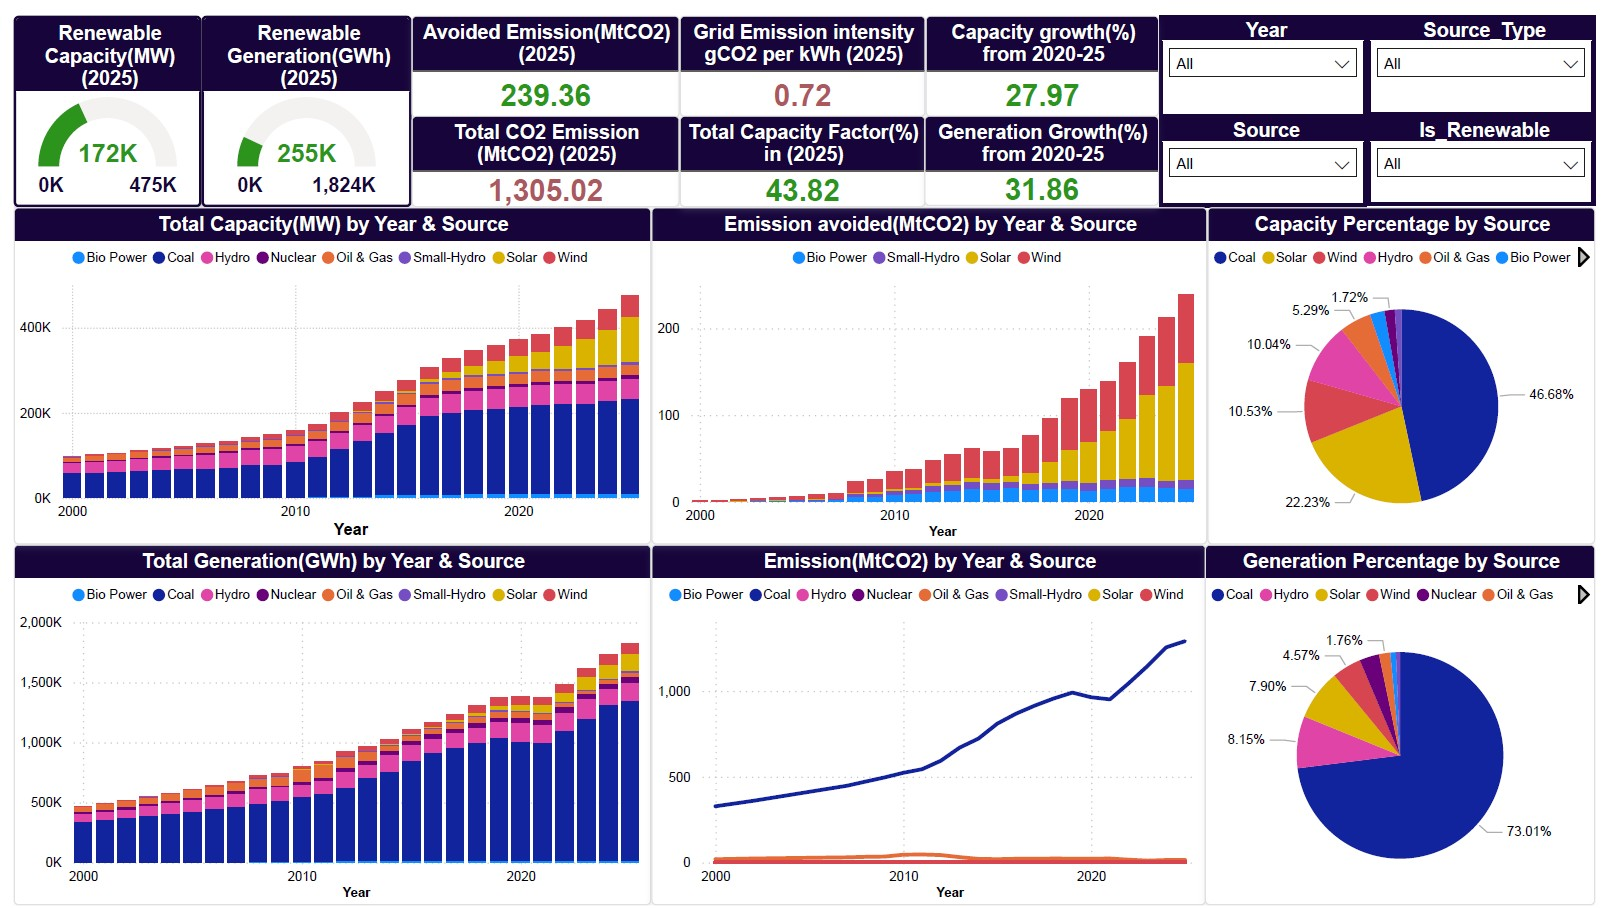

What the dashboard file says about the page in this screenshot:
{"tool":"powerbi","page":{"name":"National Level Energy Summary","canvas":[1280,720],"ordinal":0},"visuals":[{"type":"slicer","title":"Year","fields":{"Values":["_Dim_Year.Year"]},"box":[927,0,168,83],"z":0},{"type":"slicer","title":"Source","fields":{"Values":["_Dim_Source.Source"]},"box":[927,81,168,74],"z":1000},{"type":"slicer","title":"Is_Renewable","fields":{"Values":["_Dim_Source.Is_Renewable"]},"box":[1095,81,185,73],"z":2000},{"type":"slicer","title":"Source_Type","fields":{"Values":["_Dim_Source.Source_Group"]},"box":[1095,0,185,81],"z":3000},{"type":"gauge","title":"Renewable Generation(GWh) (2025)","fields":{"Y":["_Measures.GEN_RE_fixed_GWh"],"MaxValue":["_Measures.GEN_Total_fixed_GWh"]},"box":[152,0,170,155],"z":4000},{"type":"gauge","title":"Renewable Capacity(MW) (2025)","fields":{"MaxValue":["_Measures.CAP_Total_fixed_MW"],"Y":["_Measures.CAP_RE_fixed_MW"]},"box":[0,0,152,155],"z":5000},{"type":"kpi","title":"Avoided Emission(MtCO2) (2025)","fields":{"TrendLine":["_Dim_Year.Year"],"Indicator":["_Measures.EM_Avoided_fixed_MtCO2"]},"box":[321.7,0,217.5,83.3],"z":6000},{"type":"kpi","title":"Total CO2 Emission (MtCO2) (2025)","fields":{"TrendLine":["_Dim_Year.Year"],"Indicator":["_Measures.EM_Total_fixed_MtCO2"]},"box":[322,81,217,74],"z":7000},{"type":"kpi","title":"Grid Emission intensity gCO2 per kWh (2025)","fields":{"TrendLine":["_Dim_Year.Year"],"Indicator":["_Measures.EM_intensity_Total_gCO2_per_kWh_fixed"]},"box":[539,0,199,82],"z":8000},{"type":"columnChart","title":"Total Generation(GWh) by Year & Source","fields":{"Category":["_Dim_Year.Year"],"Series":["_Dim_Source.Source"],"Y":["_Measures.GEN_Total_GWh"]},"box":[0,427.8,515.7,292.5],"z":9000},{"type":"lineChart","title":"Emission(MtCO2) by Year & Source","fields":{"Category":["_Dim_Year.Year"],"Series":["_Dim_Source.Source"],"Y":["_Measures.EM_Total_MtCO2"]},"box":[515.7,427.8,448.9,292.5],"z":11000},{"type":"pieChart","title":"Capacity Percentage by Source","fields":{"Category":["_Dim_Source.Source"],"Y":["_Measures.Cap_%_by_source_pie"]},"box":[966,155,314,273],"z":12000},{"type":"pieChart","title":"Generation Percentage by Source","fields":{"Category":["_Dim_Source.Source"],"Y":["_Measures.Gen_%_by_source_pie"]},"box":[964.4,427.8,315.6,292.2],"z":13000},{"type":"columnChart","title":"Emission avoided(MtCO2) by Year & Source","fields":{"Category":["_Dim_Year.Year"],"Series":["_Dim_Source.Source"],"Y":["_Measures.EM_Avoided_MtCO2"]},"box":[515.7,154.6,450.7,273.2],"z":14000},{"type":"lineStackedColumnComboChart","title":"Total Capacity(MW) by Year & Source","fields":{"Category":["_Dim_Year.Year"],"Series":["_Dim_Source.Source"],"Y":["_Measures.CAP_Total_MW"]},"box":[0,154.6,515.7,273.2],"z":15000},{"type":"kpi","title":"Total Capacity Factor(%)  in (2025)","fields":{"TrendLine":["_Dim_Year.Year"],"Indicator":["_Measures.CF_Total_Fixed_%"]},"box":[539,81,199,74],"z":17000},{"type":"kpi","title":"Capacity growth(%) from 2020-25","fields":{"TrendLine":["_Dim_Year.Year"],"Indicator":["_Measures.CAP_Growth_2020_2025_%"]},"box":[738,0,189,82],"z":18000},{"type":"kpi","title":"Generation Growth(%) from 2020-25","fields":{"TrendLine":["_Dim_Year.Year"],"Indicator":["_Measures.GEN_Growth_2020_2025_%"]},"box":[737,81,190,73],"z":19000}]}

Visuals, with their boxes in screenshot pixels (x1, y1, x2, y2), scaled from the page's 1280x720 canvas onto the 1617x908 screenshot:
"Year" slicer: Rect(1171, 0, 1383, 105)
"Source" slicer: Rect(1171, 102, 1383, 195)
"Is_Renewable" slicer: Rect(1383, 102, 1616, 194)
"Source_Type" slicer: Rect(1383, 0, 1616, 102)
"Renewable Generation(GWh) (2025)" gauge: Rect(192, 0, 407, 195)
"Renewable Capacity(MW) (2025)" gauge: Rect(0, 0, 192, 195)
"Avoided Emission(MtCO2) (2025)" kpi: Rect(406, 0, 681, 105)
"Total CO2 Emission (MtCO2) (2025)" kpi: Rect(407, 102, 681, 195)
"Grid Emission intensity gCO2 per kWh (2025)" kpi: Rect(681, 0, 932, 103)
"Total Generation(GWh) by Year & Source" columnChart: Rect(0, 540, 651, 907)
"Emission(MtCO2) by Year & Source" lineChart: Rect(651, 540, 1219, 907)
"Capacity Percentage by Source" pieChart: Rect(1220, 195, 1616, 540)
"Generation Percentage by Source" pieChart: Rect(1218, 540, 1616, 907)
"Emission avoided(MtCO2) by Year & Source" columnChart: Rect(651, 195, 1221, 540)
"Total Capacity(MW) by Year & Source" lineStackedColumnComboChart: Rect(0, 195, 651, 540)
"Total Capacity Factor(%)  in (2025)" kpi: Rect(681, 102, 932, 195)
"Capacity growth(%) from 2020-25" kpi: Rect(932, 0, 1171, 103)
"Generation Growth(%) from 2020-25" kpi: Rect(931, 102, 1171, 194)
